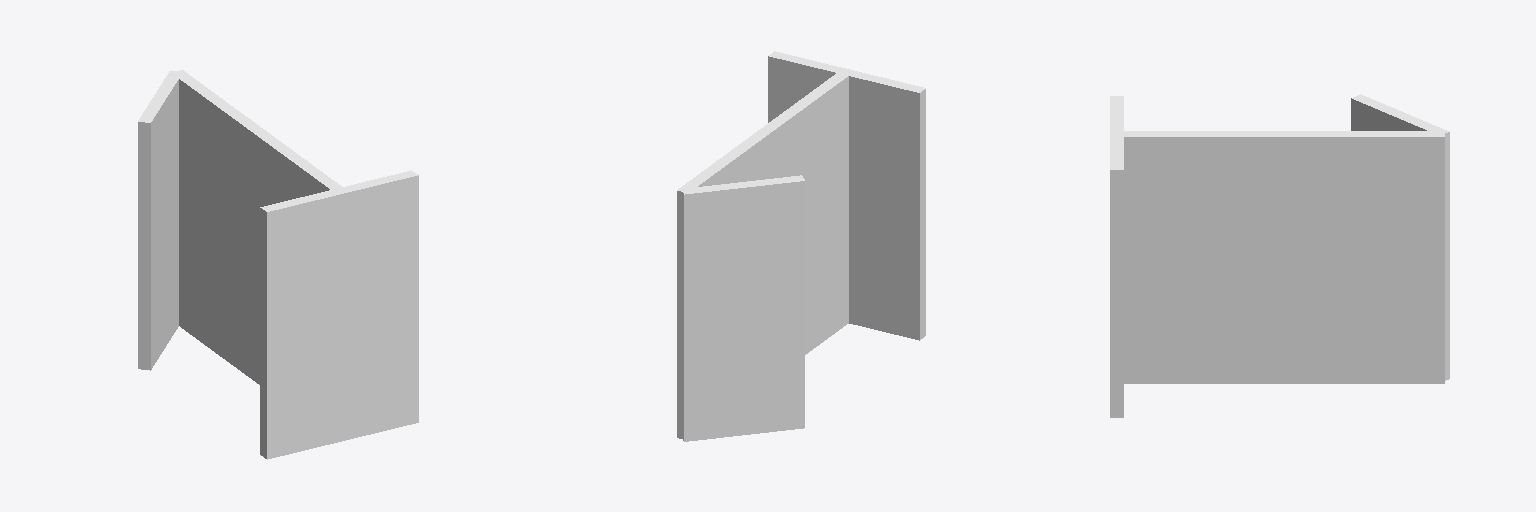
The picture shows the model from 3 angles: view 1: azimuth 30°, elevation 25°; view 2: azimuth 150°, elevation 25°; view 3: azimuth 270°, elevation 25°; orthographic projection.
Parts seen in each view (by area): view 1: wall_3_16, wall_2_10, wall_1_3, wall_1_4, wall_3_15, wall_2_11, wall_2_12; view 2: wall_1_4, wall_3_15, wall_2_10, wall_2_9, wall_2_11, wall_2_12, wall_3_16; view 3: wall_2_9, wall_3_15, wall_3_16, wall_1_3, wall_1_4, wall_2_11, wall_2_12.
Part boxes in pixels (left/top/right/bottom): wall_3_16: left=264, top=175, right=418, bottom=459; wall_2_10: left=179, top=79, right=329, bottom=384; wall_1_3: left=144, top=80, right=178, bottom=370; wall_1_4: left=138, top=122, right=143, bottom=369; wall_3_15: left=260, top=208, right=263, bottom=456; wall_2_11: left=178, top=70, right=345, bottom=190; wall_2_12: left=175, top=71, right=339, bottom=192; wall_1_4: left=683, top=181, right=804, bottom=441; wall_3_15: left=768, top=56, right=922, bottom=340; wall_2_10: left=698, top=76, right=848, bottom=354; wall_2_9: left=677, top=191, right=682, bottom=438; wall_2_11: left=677, top=71, right=843, bottom=191; wall_2_12: left=683, top=72, right=851, bottom=192; wall_3_16: left=923, top=89, right=925, bottom=337; wall_2_9: left=1124, top=137, right=1444, bottom=383; wall_3_15: left=1117, top=170, right=1123, bottom=417; wall_3_16: left=1110, top=170, right=1116, bottom=417; wall_1_3: left=1351, top=98, right=1426, bottom=130; wall_1_4: left=1445, top=132, right=1449, bottom=380; wall_2_11: left=1117, top=134, right=1444, bottom=136; wall_2_12: left=1117, top=131, right=1441, bottom=133.
Bounding box in the file's own units: 100 × 152 × 189.